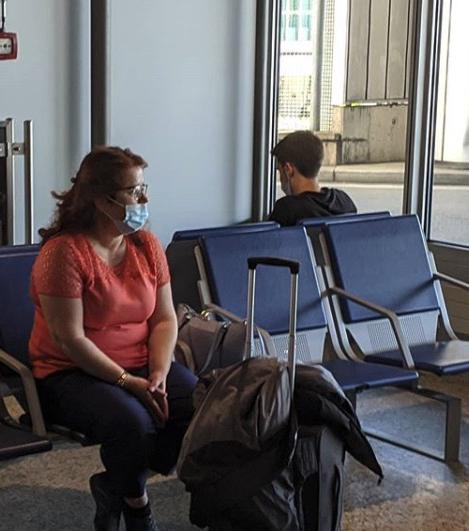mask_weared_incorrect: (113, 179, 160, 226)
